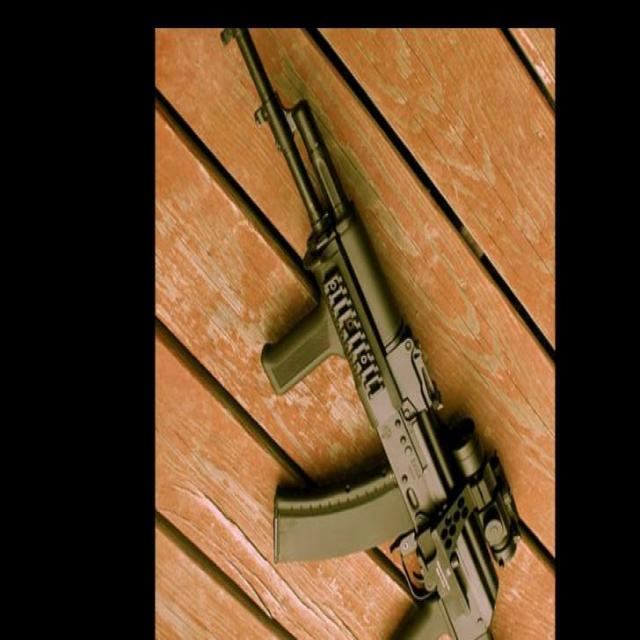weapon: (220, 28, 522, 640)
